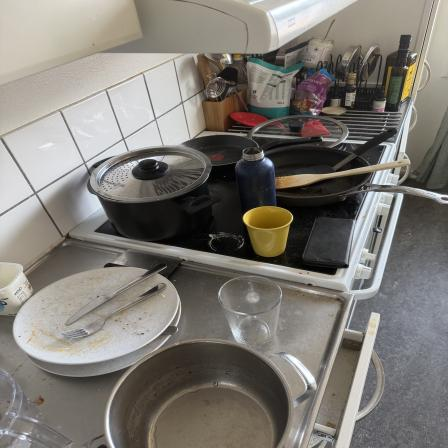blue_bottle: (233, 146, 277, 208)
phone: (307, 214, 355, 268)
yellow_cup: (244, 206, 291, 258)
